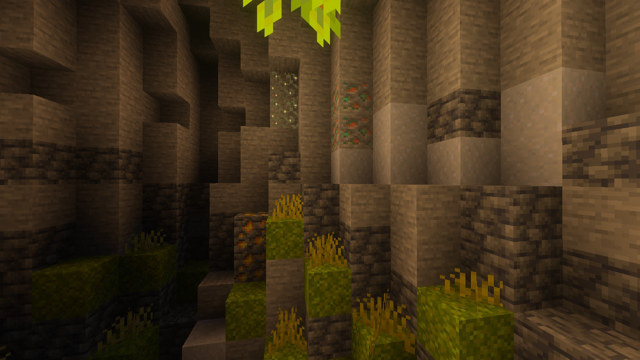copper: (330, 79, 374, 152)
gold: (231, 211, 270, 285)
